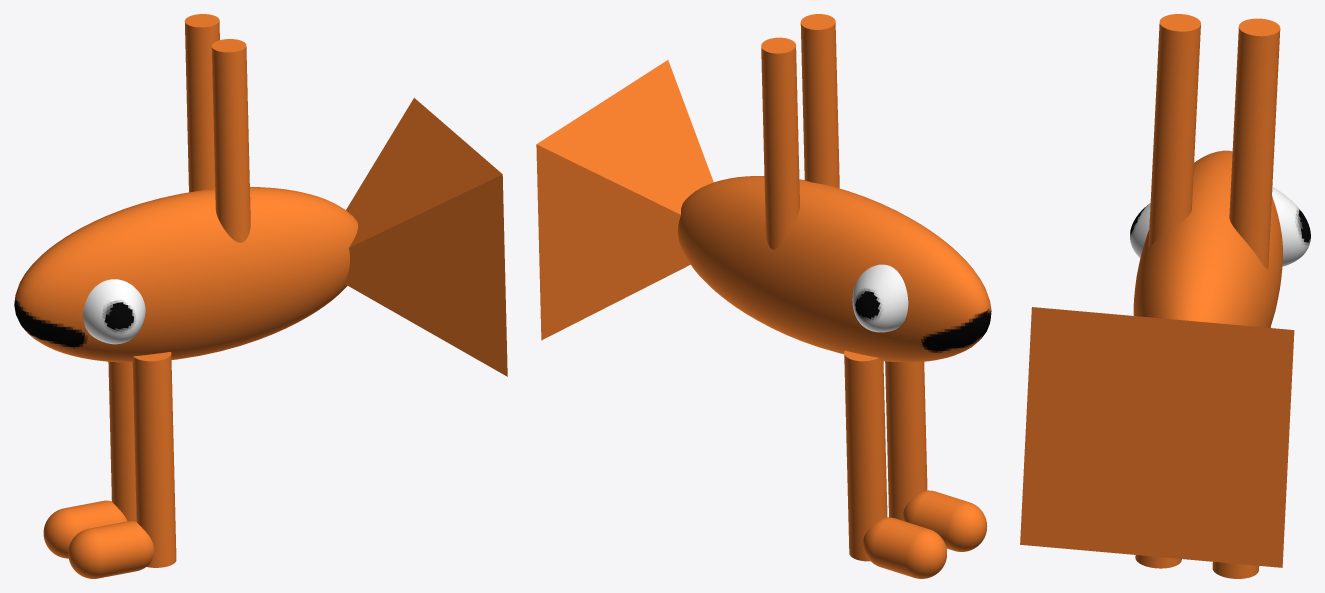
The model's file is steve.glb.
3 views of the same model, side by side, from view 1: azimuth 30°, elevation 25°; view 2: azimuth 150°, elevation 25°; view 3: azimuth 270°, elevation 25° (orthographic). The views are drawn at different scales.
Parts seen in each view (by area): view 1: mesh_id27, mesh_id32, mesh_id53, mesh_id87, mesh_id81, mesh_id54, mesh_id39, mesh_id64, mesh_id41; view 2: mesh_id27, mesh_id32, mesh_id39, mesh_id81, mesh_id87, mesh_id53, mesh_id41, mesh_id54, mesh_id76; view 3: mesh_id32, mesh_id27, mesh_id81, mesh_id87, mesh_id76, mesh_id64, mesh_id39, mesh_id53.
Part boxes in pixels (box(x1,y1,x2,y2)): mesh_id27: box(14, 187, 358, 362); mesh_id32: box(344, 98, 507, 376); mesh_id53: box(132, 352, 176, 567); mesh_id87: box(211, 39, 250, 242); mesh_id81: box(184, 14, 219, 192); mesh_id54: box(68, 521, 154, 578); mesh_id39: box(108, 361, 136, 521); mesh_id64: box(83, 279, 145, 344); mesh_id41: box(43, 500, 127, 558); mesh_id27: box(678, 176, 991, 362); mesh_id32: box(536, 60, 713, 340); mesh_id39: box(844, 350, 887, 561); mesh_id81: box(761, 37, 799, 249); mesh_id87: box(800, 14, 839, 188); mesh_id53: box(885, 361, 927, 520); mesh_id41: box(863, 517, 946, 578); mesh_id54: box(903, 490, 987, 551); mesh_id76: box(852, 264, 908, 332); mesh_id32: box(1020, 307, 1294, 567); mesh_id27: box(1133, 150, 1282, 327); mesh_id81: box(1229, 18, 1280, 269); mesh_id87: box(1148, 14, 1200, 246); mesh_id76: box(1272, 186, 1310, 266); mesh_id64: box(1130, 203, 1150, 257); mesh_id39: box(1212, 326, 1270, 578); mesh_id53: box(1135, 555, 1181, 568).
Size of the model in its own units: 0.1898 by 0.214 by 0.0944.
8 materials, 8 textured.
